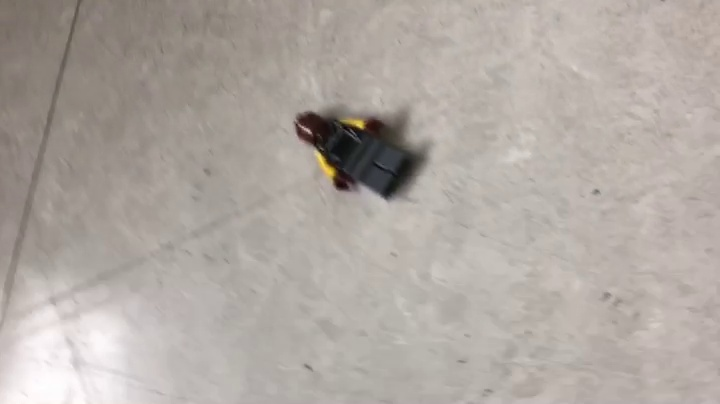people: (292, 109, 416, 200)
